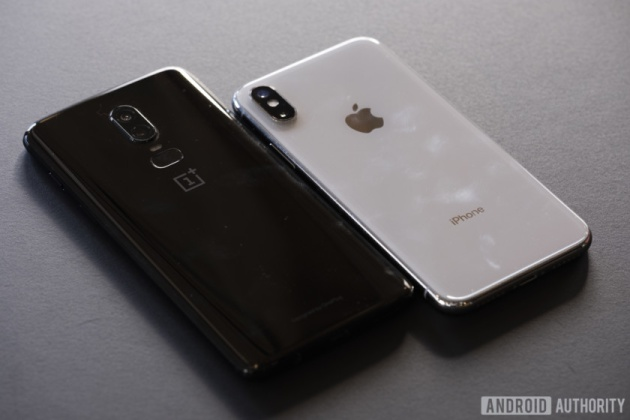apple: (340, 97, 388, 141)
